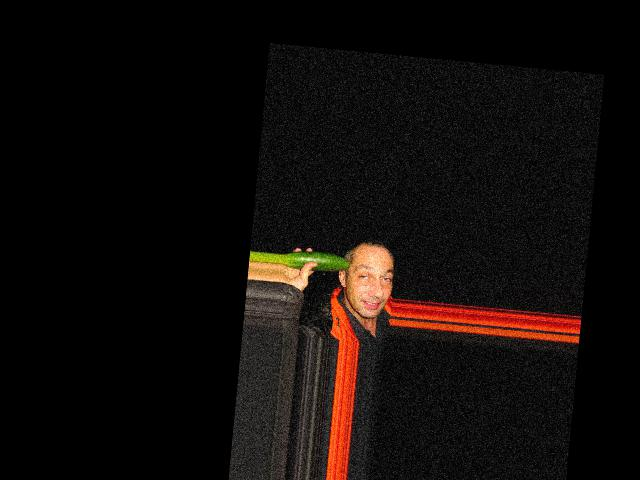cucumber: (284, 249, 351, 273)
